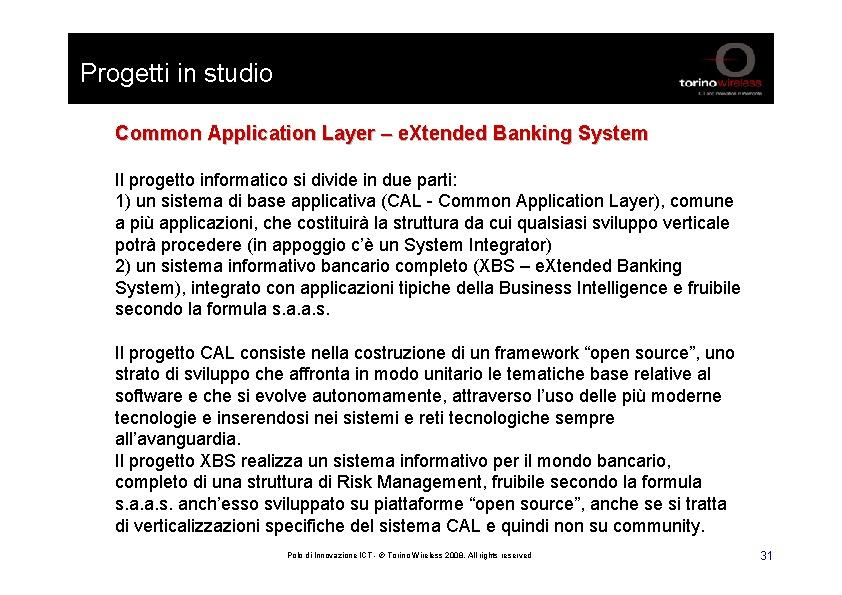paragraph: (103, 161, 786, 546)
subtitle: (112, 115, 656, 160)
title: (77, 54, 292, 99)
